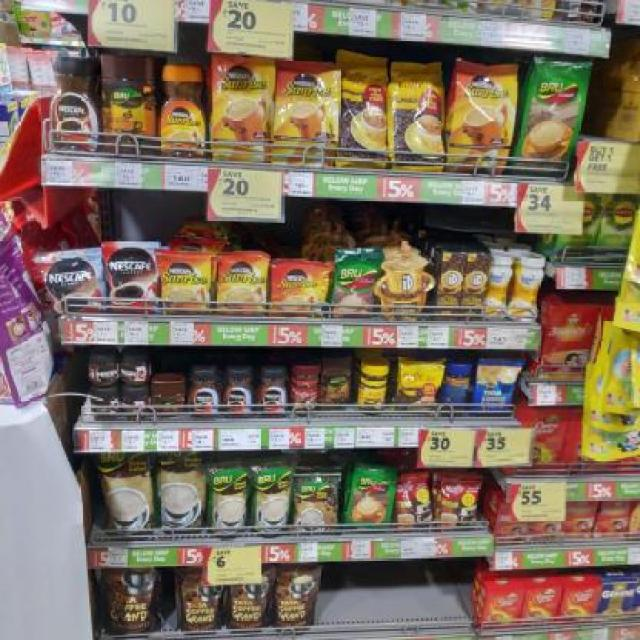Coffee: (453, 60, 515, 172), (210, 52, 272, 162), (276, 58, 336, 162), (50, 54, 98, 151), (161, 63, 204, 159), (159, 253, 212, 315), (106, 243, 154, 311), (219, 256, 267, 318), (48, 256, 100, 313), (274, 262, 328, 312), (188, 366, 221, 416), (258, 366, 288, 414), (225, 367, 253, 418), (90, 353, 118, 385), (90, 389, 119, 419), (122, 354, 149, 386), (123, 390, 149, 418)
